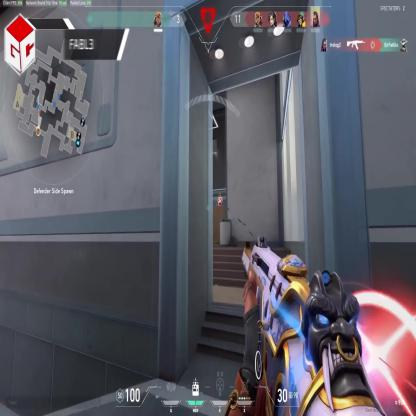enemy: (217, 189, 223, 216)
enemy_head: (219, 193, 221, 197)
